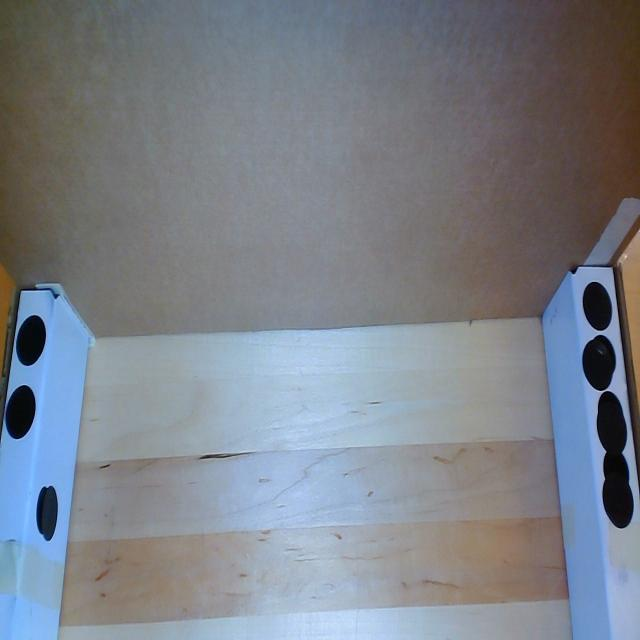Hole: (603, 451, 629, 489), (594, 335, 616, 374), (597, 392, 620, 429), (36, 486, 52, 534)
Sticker: (2, 383, 38, 441), (600, 476, 636, 530), (14, 313, 48, 370), (583, 276, 613, 332), (582, 337, 612, 392), (597, 404, 625, 452), (41, 483, 61, 544)
